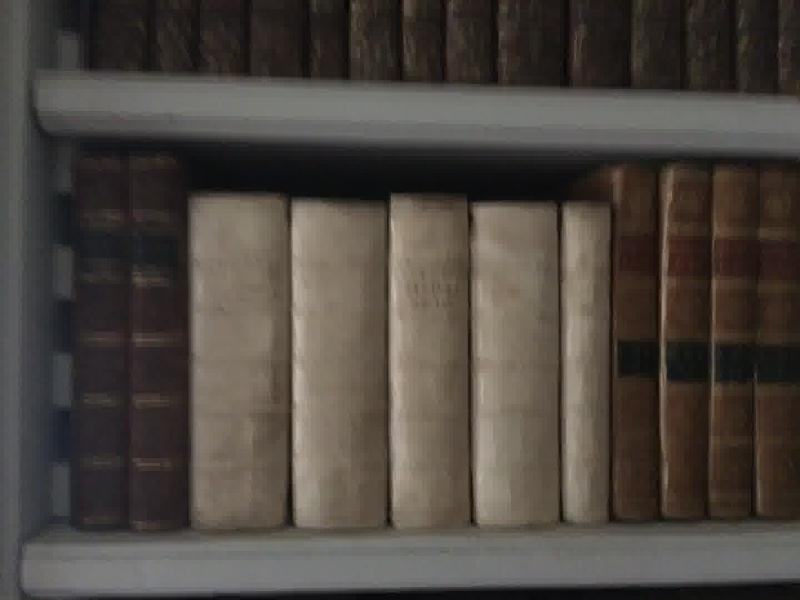Kk4-1_2: (63, 139, 193, 541)
Kk4-3_7: (184, 183, 615, 536)
Kk4-8_13: (604, 158, 800, 534)
